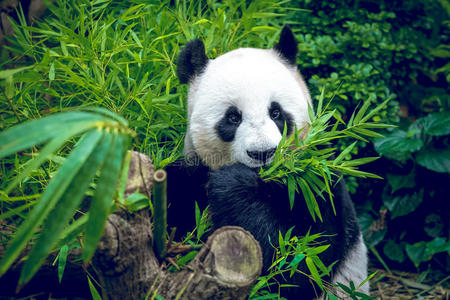panda: (134, 30, 382, 292)
